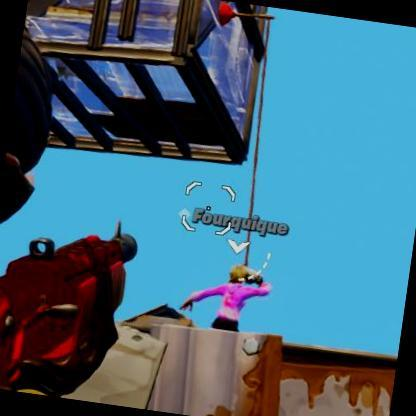person: (208, 268, 250, 340)
